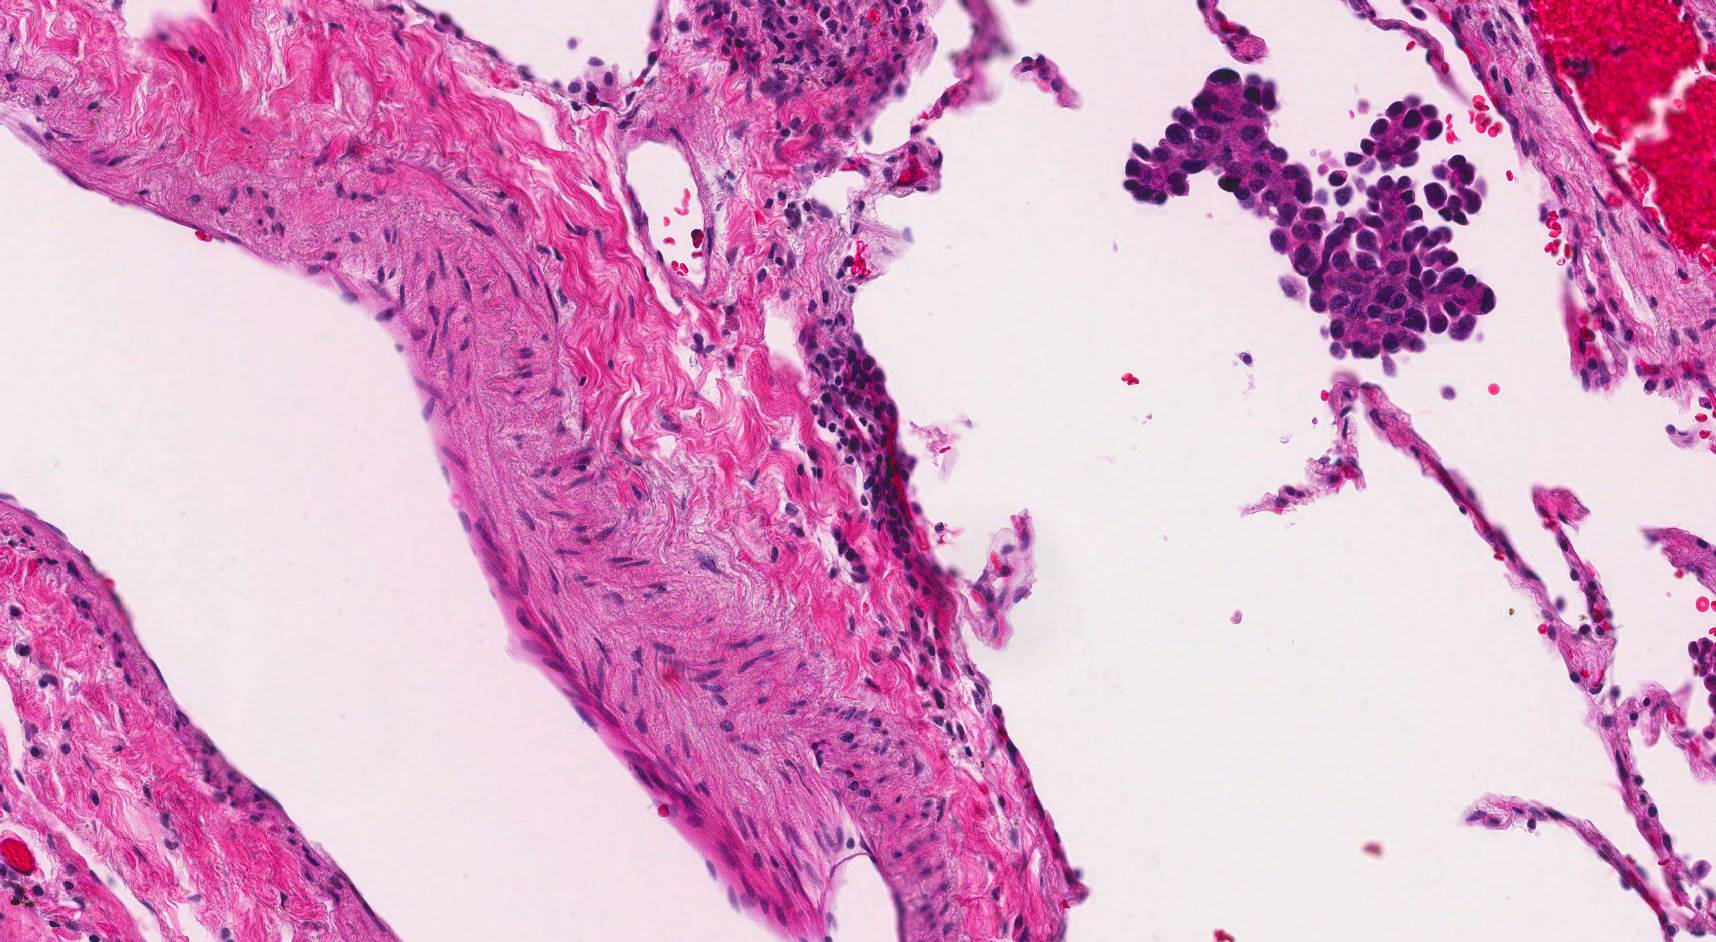stas: (1121, 65, 1499, 356), (1339, 94, 1441, 173), (1424, 154, 1491, 225)
